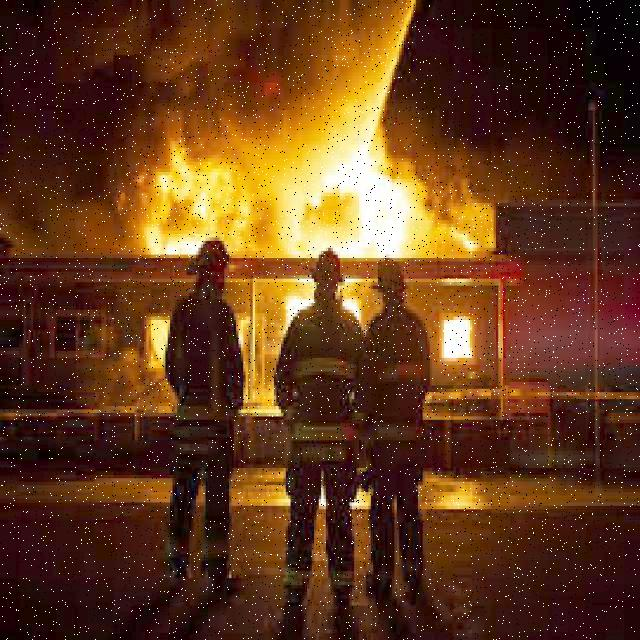fire: (122, 146, 258, 258), (204, 206, 426, 262)
smoke: (20, 6, 302, 120)
